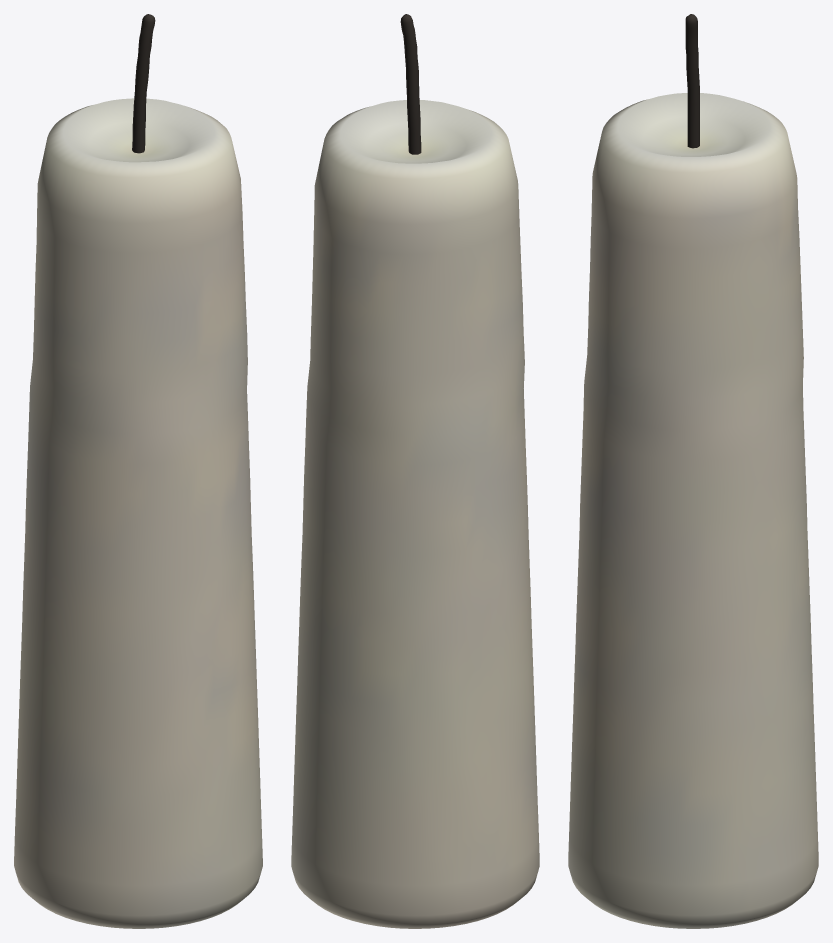
The model's file is candle.glb.
3 renders of one model, left to right at view 1: azimuth 30°, elevation 25°; view 2: azimuth 150°, elevation 25°; view 3: azimuth 270°, elevation 25°, orthographic.
Visible parts, largest first — view 1: candle-wax, candle-wick; view 2: candle-wax, candle-wick; view 3: candle-wax, candle-wick.
Part boxes in pixels (x1,y1,x2,y2): candle-wax: (14, 98, 262, 928); candle-wick: (132, 14, 155, 153); candle-wax: (291, 100, 539, 928); candle-wick: (400, 14, 421, 154); candle-wax: (568, 93, 818, 928); candle-wick: (685, 14, 699, 148).
Size of what is drawn, in the model's own units: 2.7 by 10.37 by 2.7.
